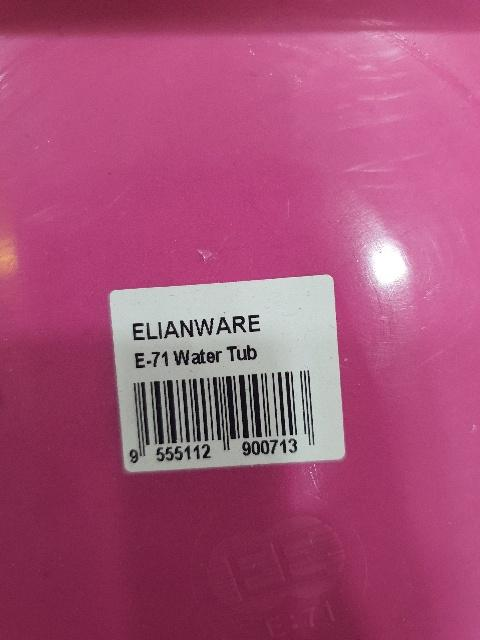Barcode: (116, 365, 334, 472)
